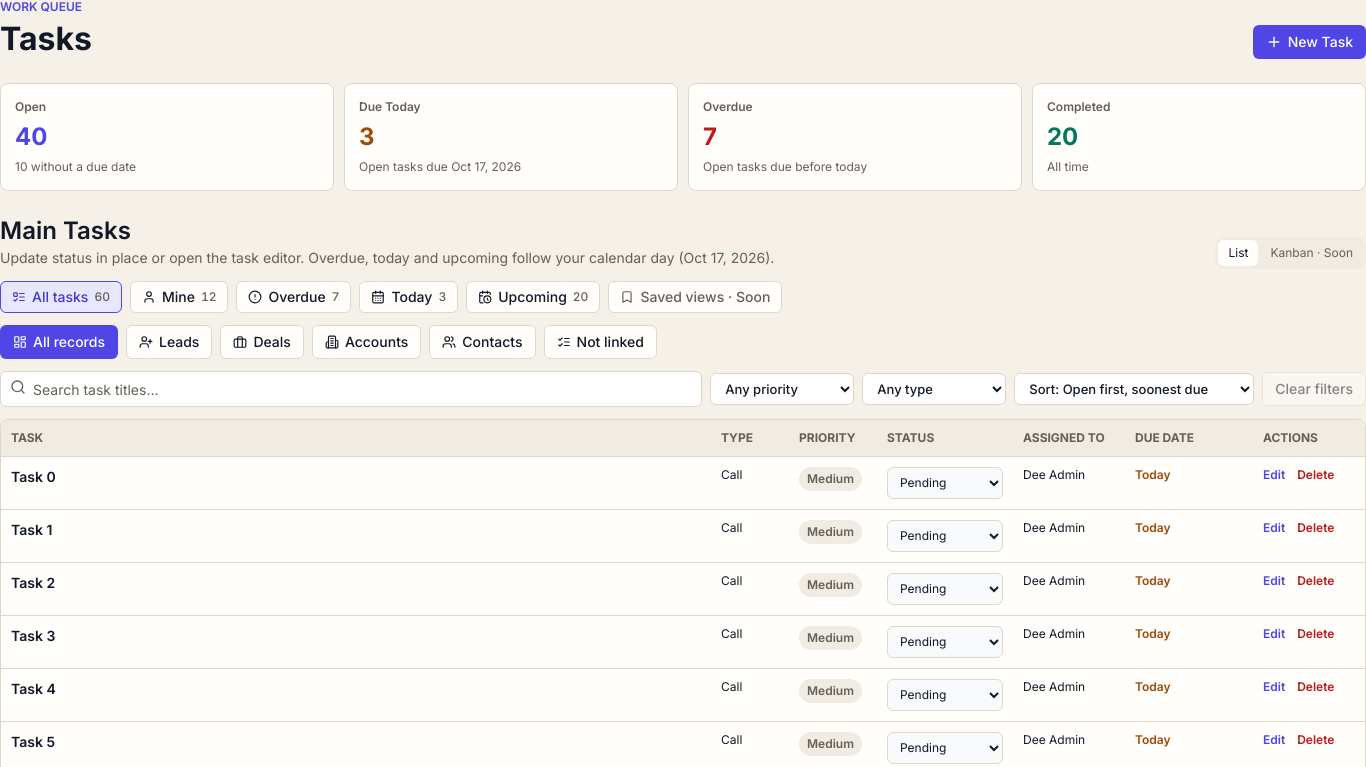
Test: Tasks — one server page, server counts › a refused delete is shown and nothing is reported as deleted
Click the button "Delete" in the row of "Task 3" at [1316, 634], box [1297,626,1334,642]
(page scrolled)
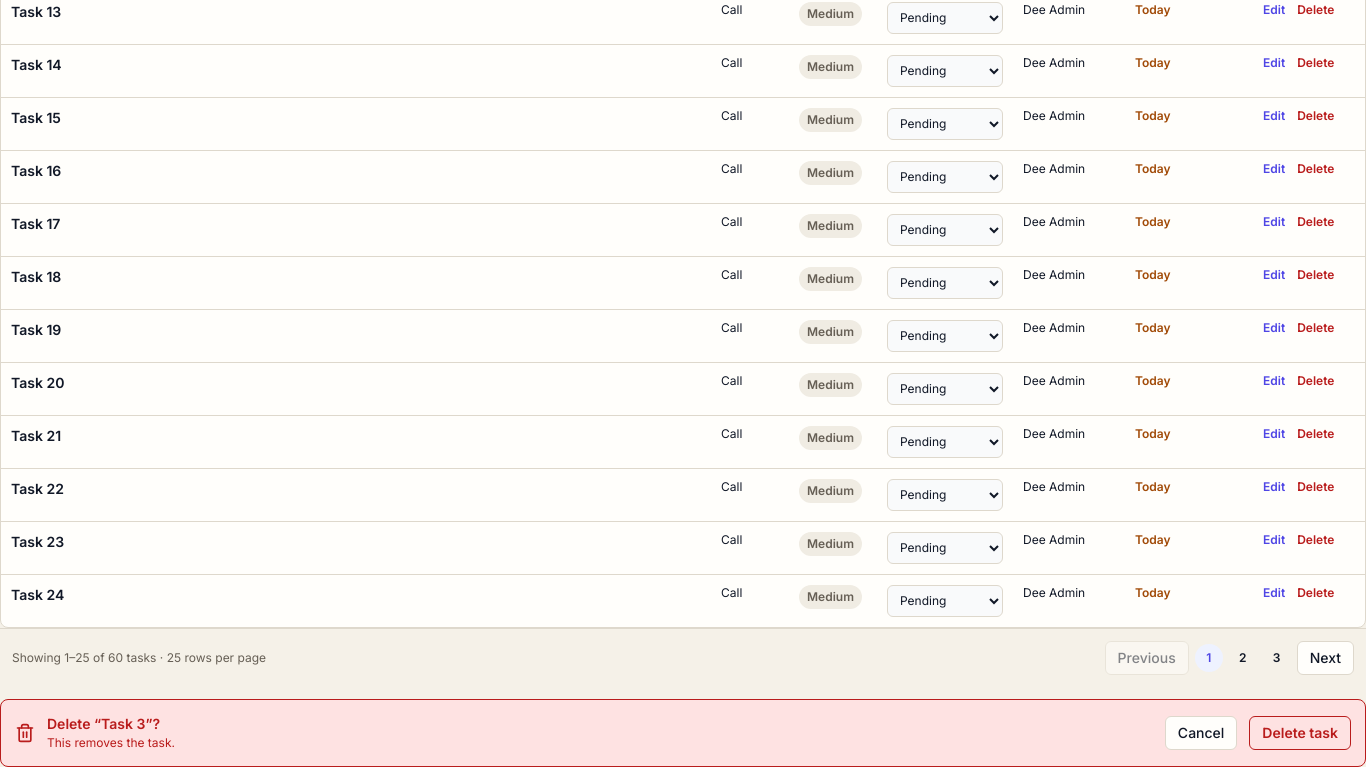
Click the button "Delete task" at [1300, 732], box [1249,716,1351,750]
(page scrolled)
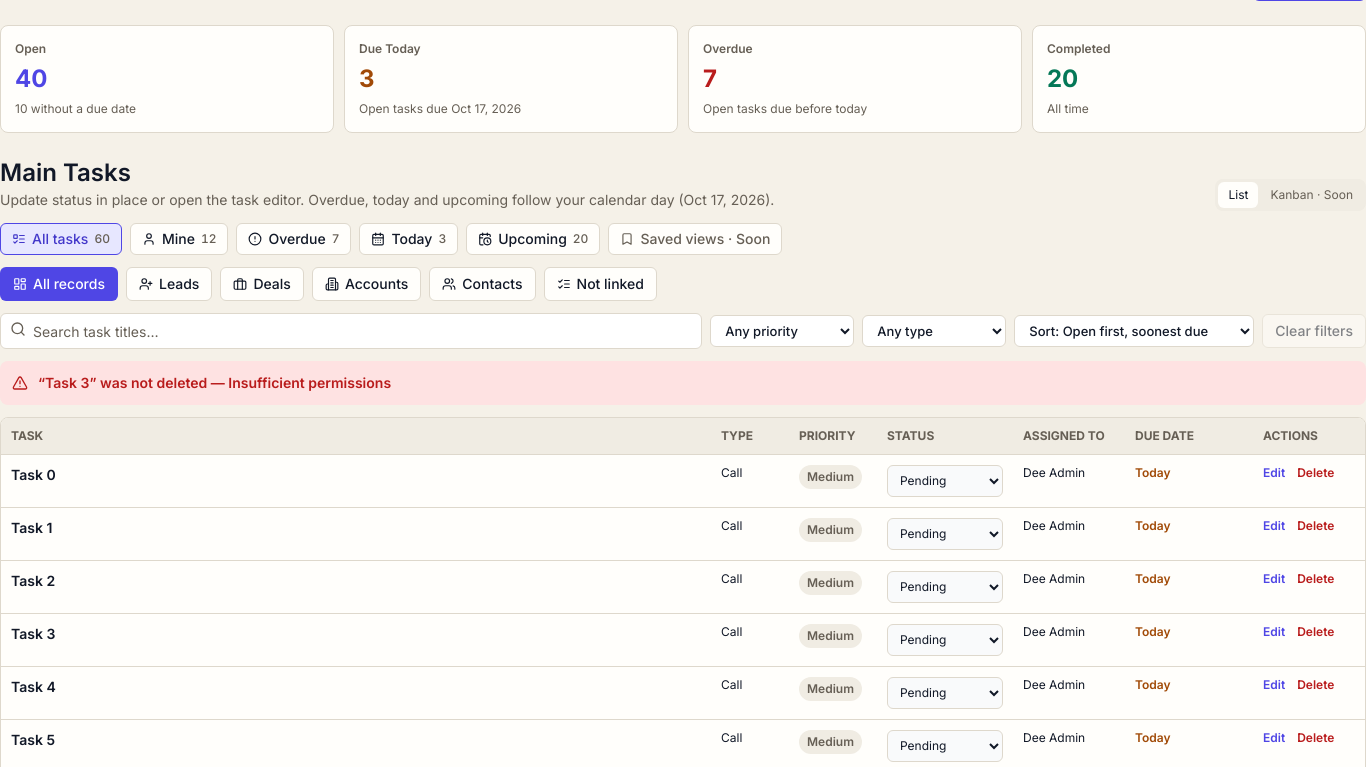
Expected: the text "“Task 3” was not deleted — Insufficient permissions" is shown, [38,374,391,391]
